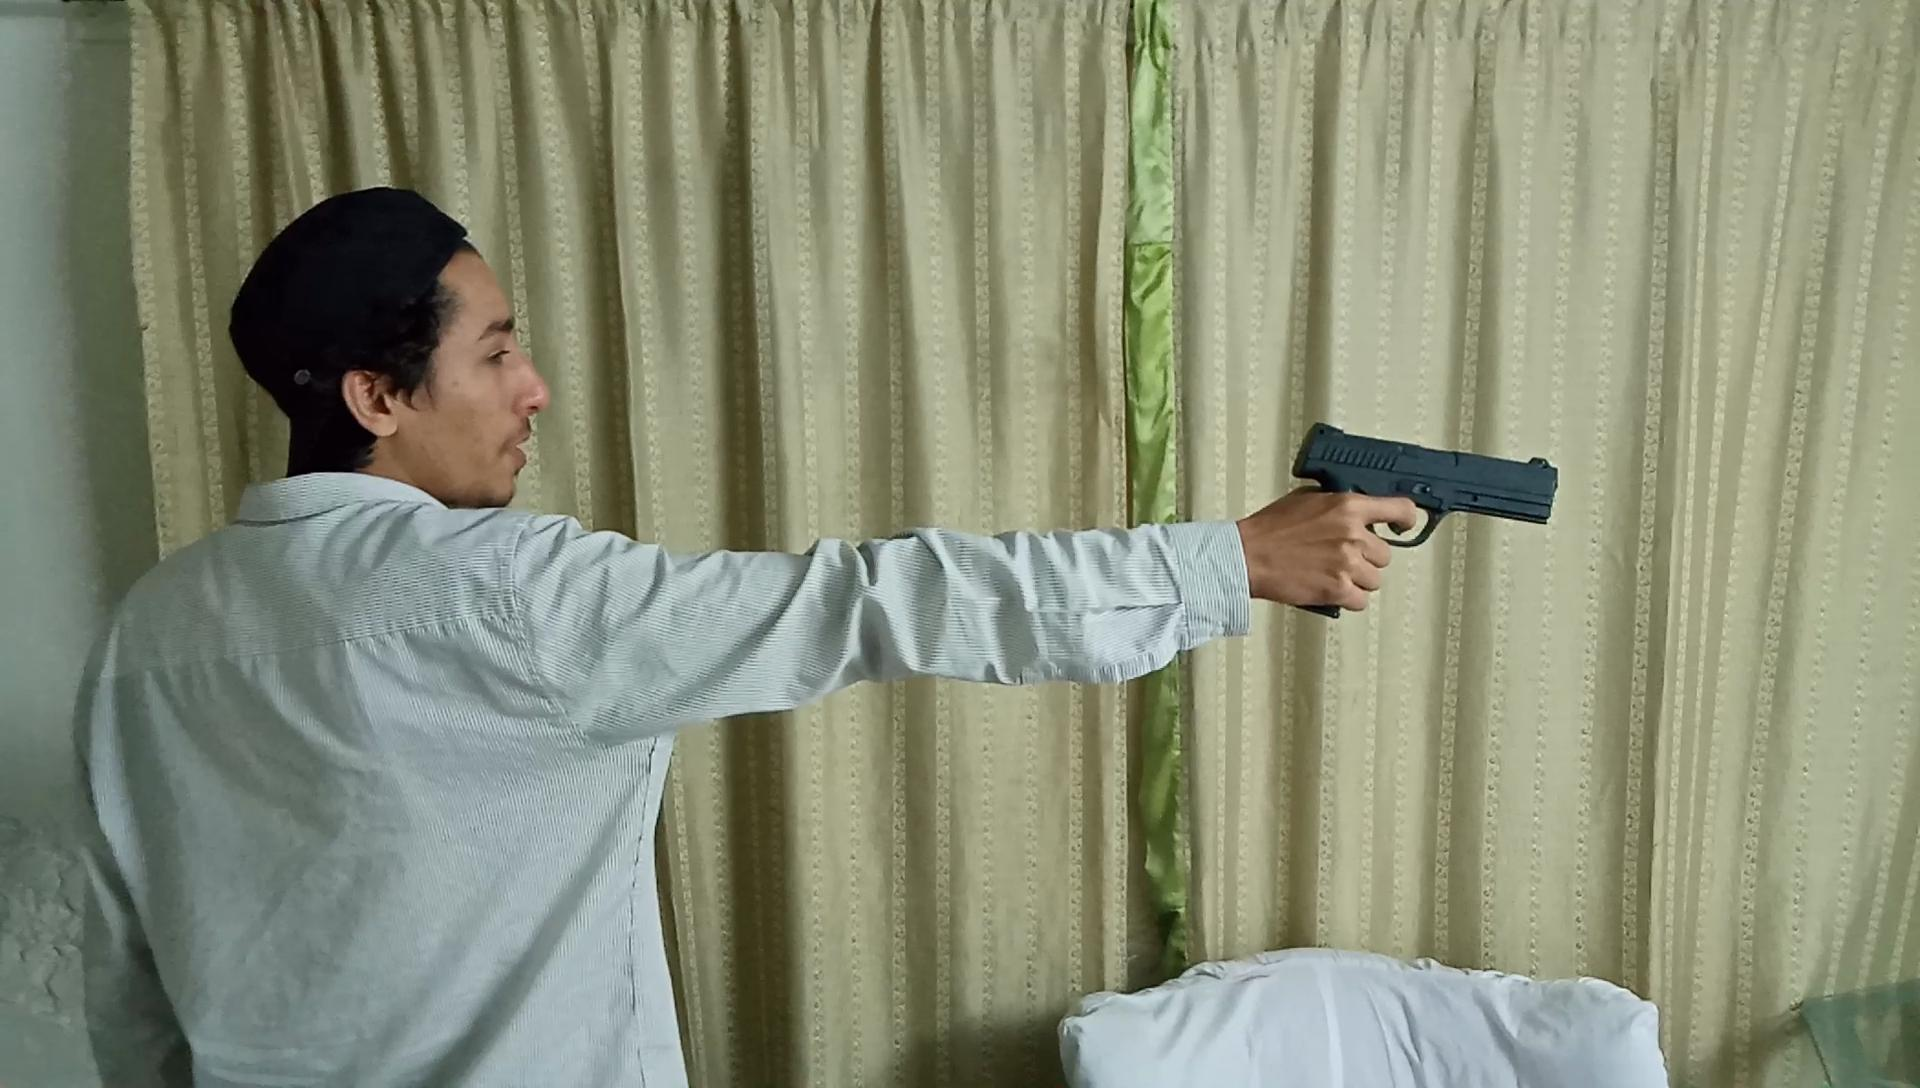criminal: (65, 178, 1567, 1088)
weapon: (1276, 415, 1567, 625)
